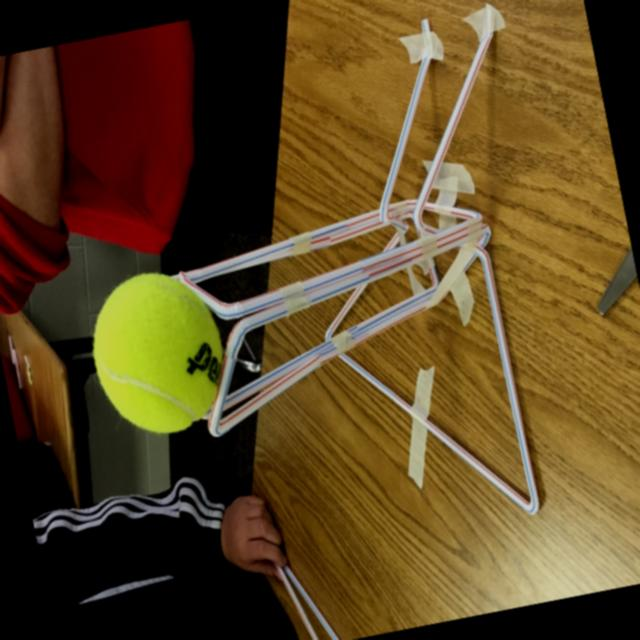Tennis ball: (78, 263, 242, 452)
